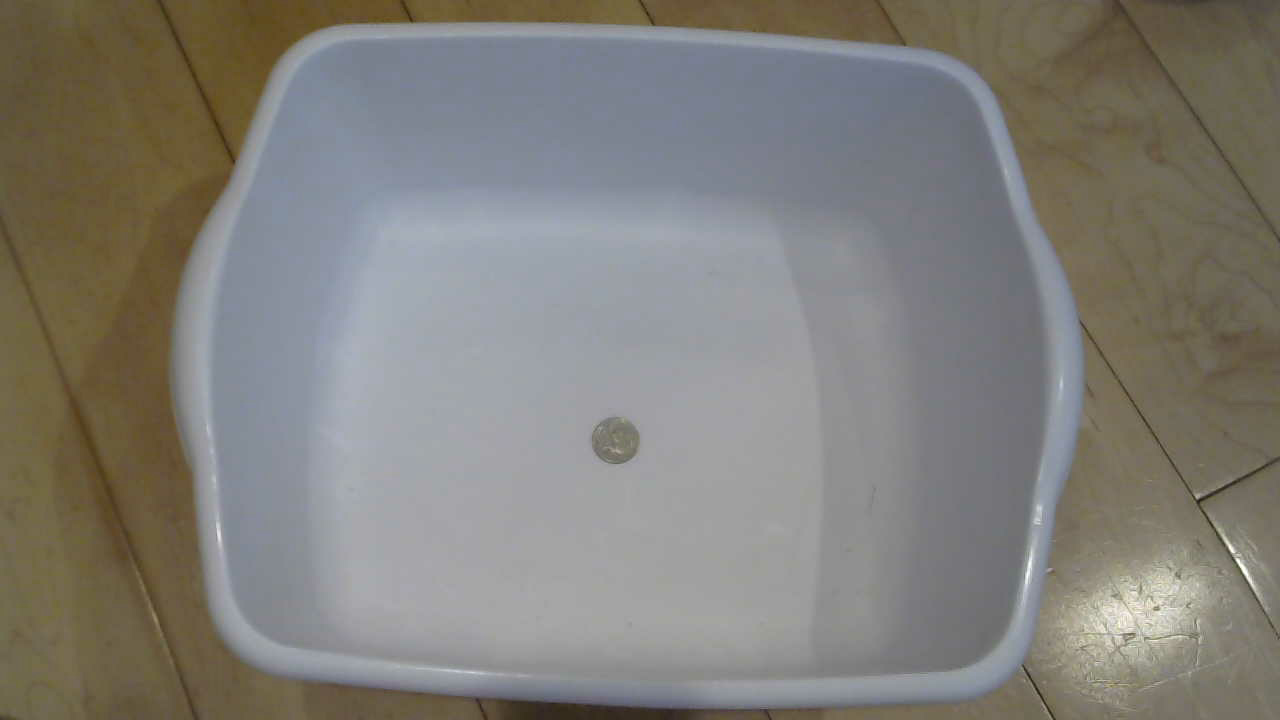coin: (592, 419, 656, 478)
